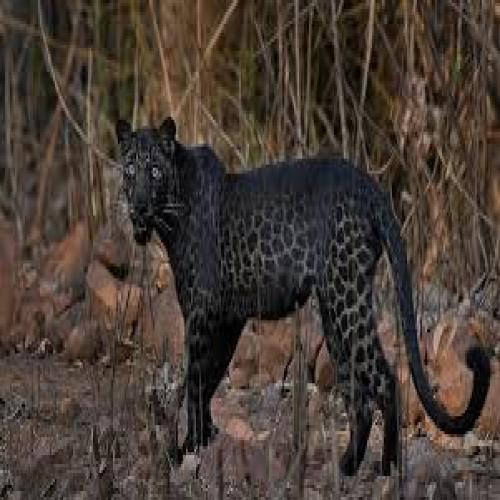panther-endangered: (117, 113, 490, 459)
